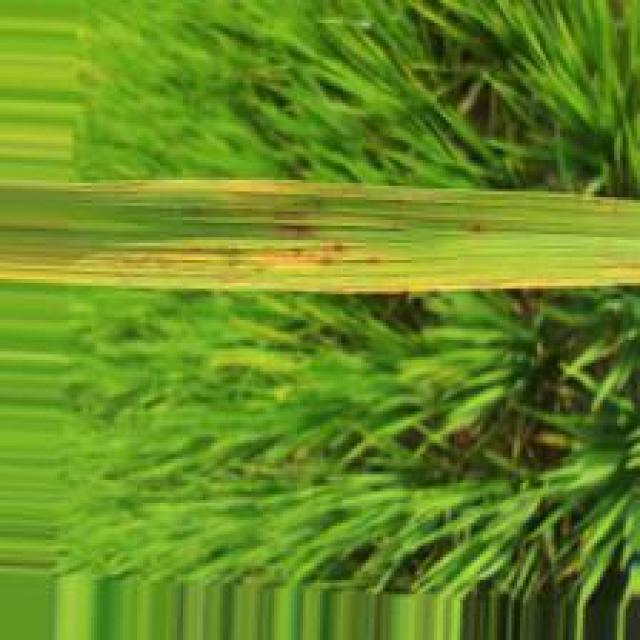Narrow_Brown_Leaf_Spot: (3, 181, 640, 295)
